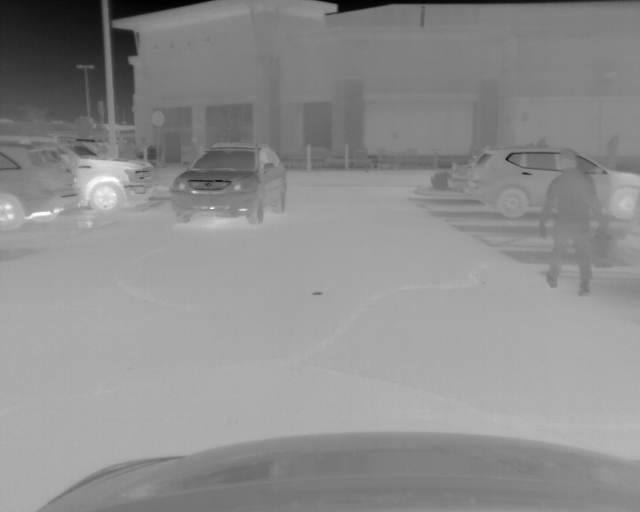car: (469, 146, 640, 222), (168, 142, 287, 225), (42, 142, 156, 216), (4, 143, 79, 230)
people: (538, 149, 606, 295)
